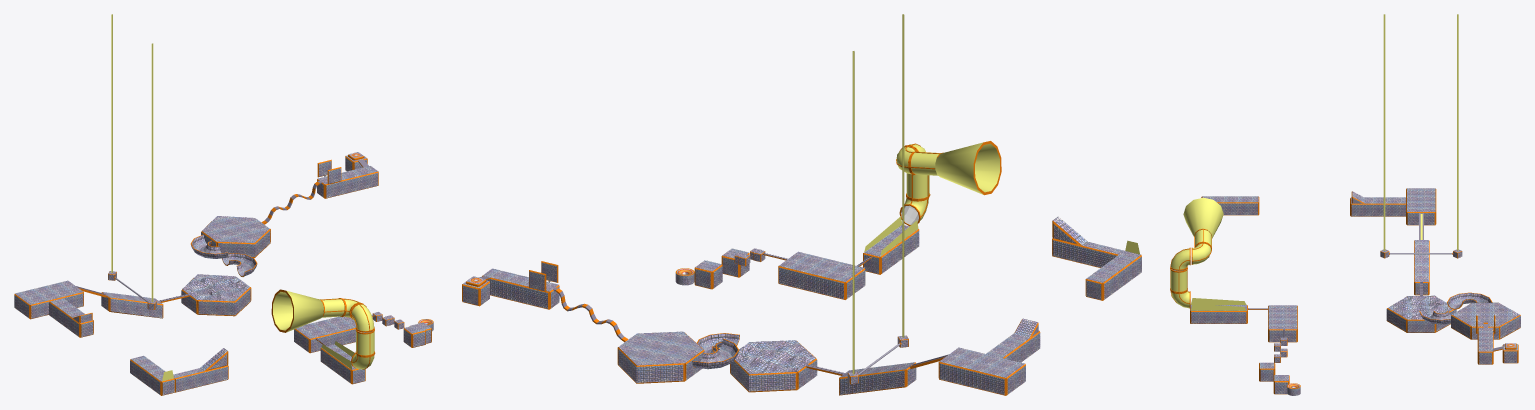
File: Level41.fbx
The picture shows the model from 3 angles, left to right: view 1: azimuth 30°, elevation 25°; view 2: azimuth 150°, elevation 25°; view 3: azimuth 270°, elevation 25°; orthographic projection. The views are drawn at different scales.
Parts seen in each view (by area): view 1: Level41; view 2: Level41; view 3: Level41.
Part boxes in pixels (x1=…): Level41: x1=14, y1=14, x2=433, y2=395; Level41: x1=462, y1=14, x2=1141, y2=395; Level41: x1=1170, y1=14, x2=1520, y2=395.
Bounding box in the file's own units: 8529 × 6425 × 7240.
Materials: 15 (7 with a texture image).
